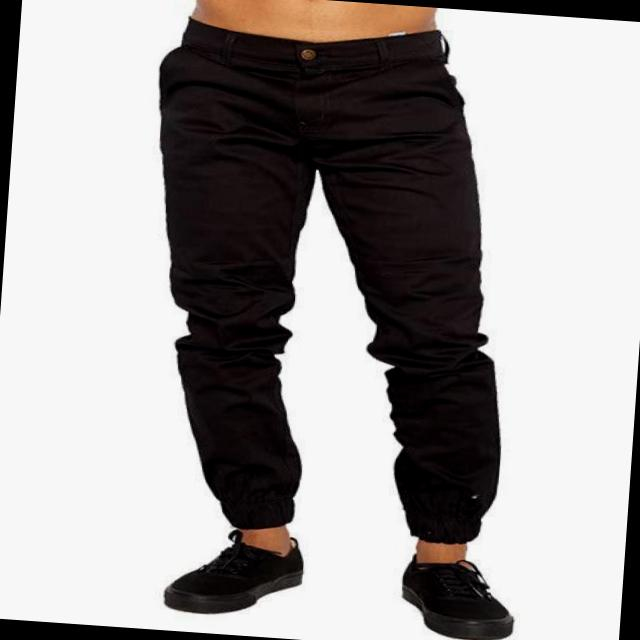pants: (126, 11, 532, 546)
